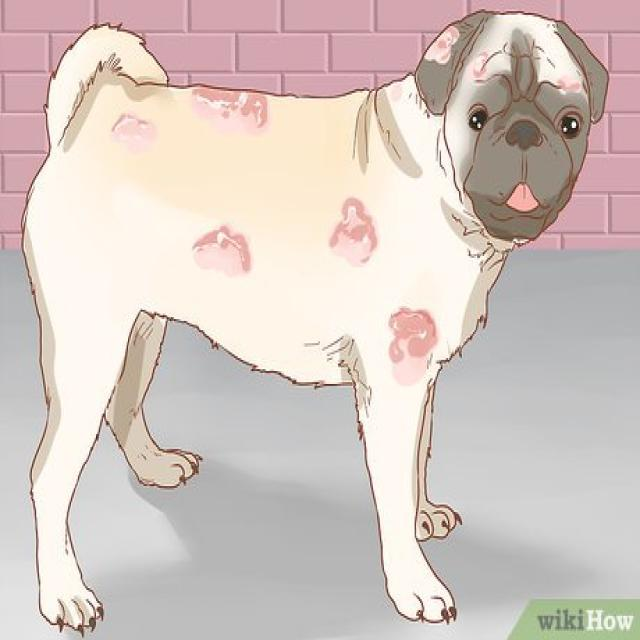fungal infection: (386, 296, 440, 386), (188, 84, 277, 128), (327, 195, 379, 270), (184, 226, 257, 275), (111, 110, 163, 142), (426, 28, 460, 67), (554, 76, 587, 95), (472, 55, 496, 79)
